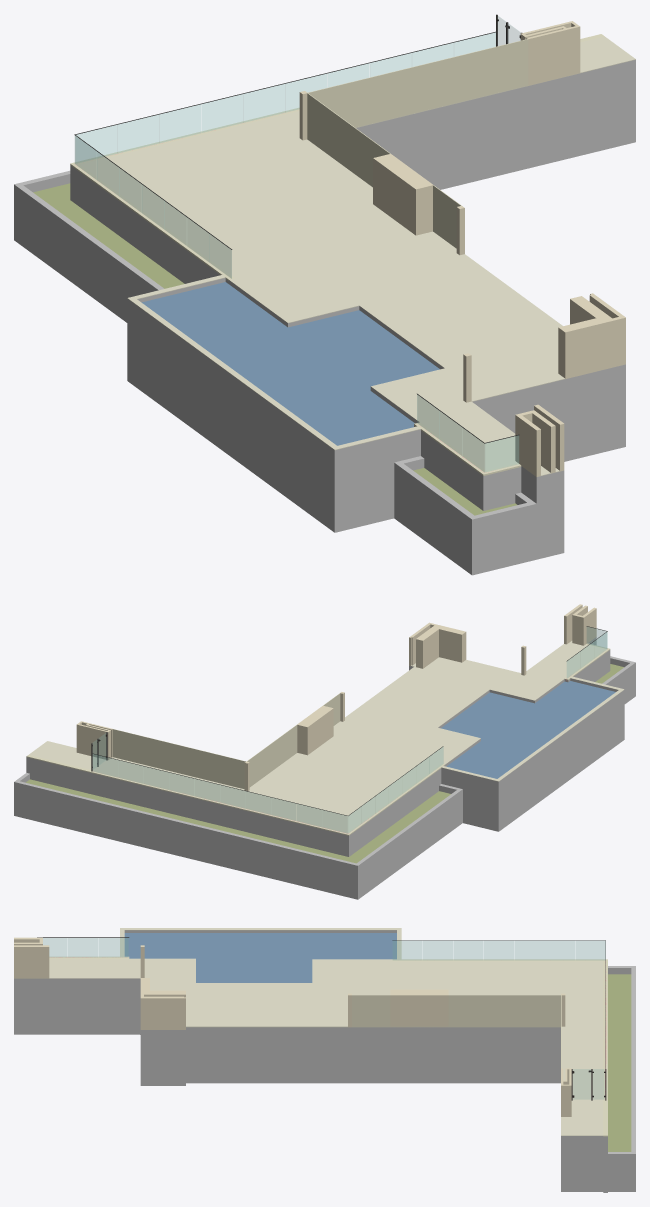
The model's file is ArchitectureExample.fbx.
The picture shows the model from 3 angles, top to bottom: view 1: azimuth 30°, elevation 25°; view 2: azimuth 150°, elevation 25°; view 3: azimuth 270°, elevation 25°; orthographic projection. The views are drawn at different scales.
Parts seen in each view (by area): view 1: Object_127, Object_178, Object_172, Object_165, Object_71, Object_174, Object_176, Object_170, Object_122, Object_110, Object_168, Object_73 (+14 smaller); view 2: Object_127, Object_176, Object_170, Object_172, Object_165, Object_71, Object_163, Object_122, Object_68, Object_73, Object_110, Object_108 (+15 smaller); view 3: Object_178, Object_127, Object_165, Object_163, Object_73, Object_110, Object_176, Object_122, Object_68, Object_118, Object_75, Object_125 (+13 smaller).
Boxes of the visible parts, x1,y1,x2,y2 form: Object_127: [80, 36, 635, 476]; Object_178: [229, 60, 635, 559]; Object_172: [127, 278, 420, 532]; Object_165: [141, 282, 439, 445]; Object_71: [308, 39, 528, 127]; Object_174: [394, 456, 536, 575]; Object_176: [14, 170, 164, 322]; Object_170: [70, 165, 228, 283]; Object_122: [558, 293, 625, 378]; Object_110: [373, 154, 433, 235]; Object_168: [414, 425, 521, 510]; Object_73: [307, 93, 390, 187]; Object_127: [29, 641, 604, 832]; Object_176: [14, 773, 462, 899]; Object_170: [26, 757, 445, 856]; Object_172: [441, 678, 624, 831]; Object_165: [441, 681, 615, 778]; Object_71: [112, 729, 246, 789]; Object_163: [26, 779, 450, 863]; Object_122: [409, 622, 466, 668]; Object_68: [26, 755, 445, 835]; Object_73: [247, 725, 297, 787]; Object_110: [297, 705, 333, 755]; Object_108: [76, 721, 112, 759]; Object_178: [14, 978, 603, 1191]; Object_127: [16, 958, 603, 1135]; Object_165: [124, 933, 396, 982]; Object_163: [608, 974, 631, 1151]; Object_73: [448, 995, 560, 1027]; Object_110: [390, 989, 448, 1027]; Object_176: [608, 966, 635, 1191]; Object_122: [140, 978, 185, 1029]; Object_68: [392, 959, 607, 1136]; Object_118: [14, 937, 49, 978]; Object_75: [352, 995, 390, 1027]; Object_125: [120, 928, 401, 959].
Size of the model in its own units: 84385 by 16848 by 106916.
